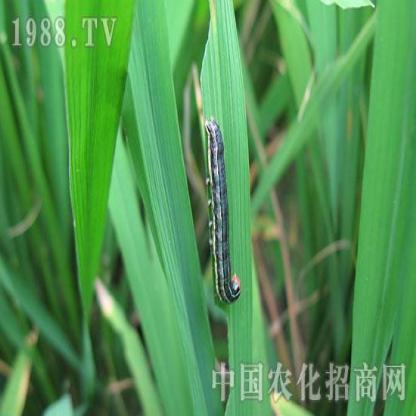armyworm: (202, 113, 242, 310)
